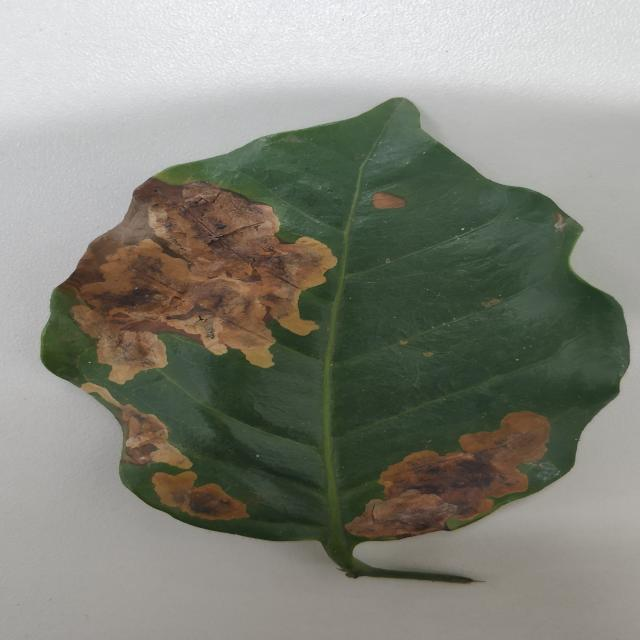Plaga-Minador: (39, 97, 631, 584)
